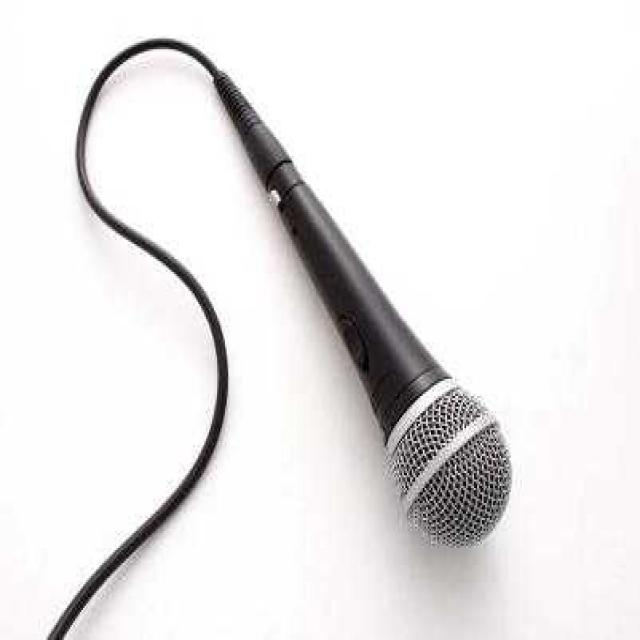microphone: (197, 63, 506, 547)
